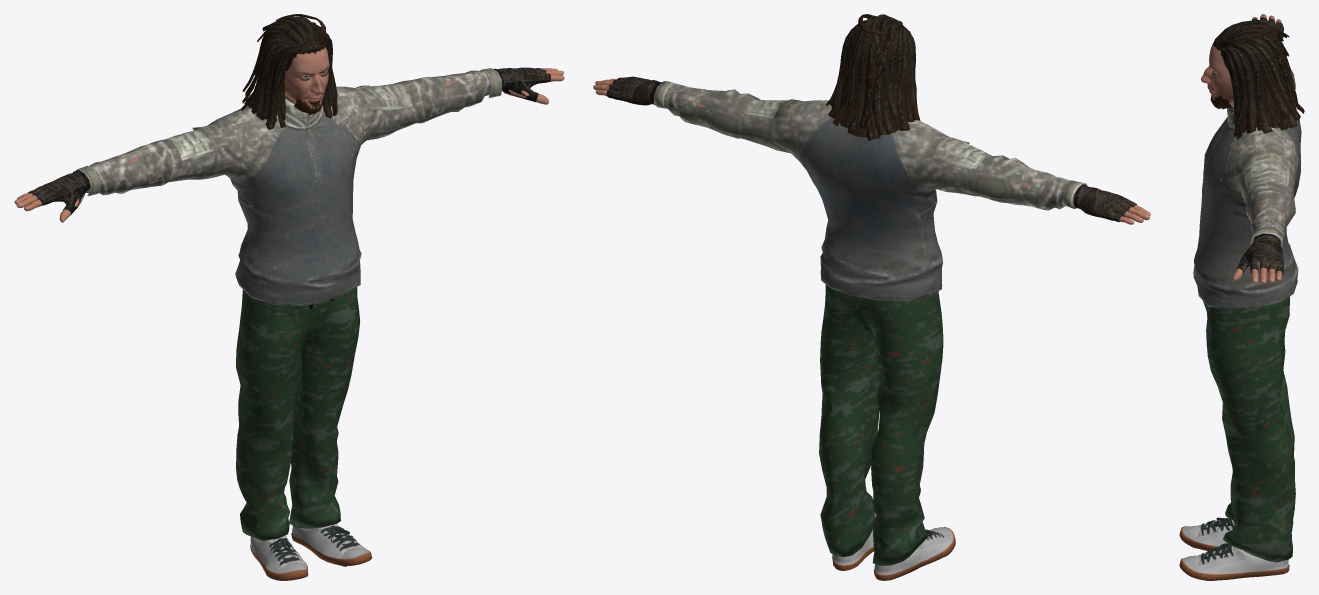
Rendered from JimModel.obj.
3 views of the same model, side by side, from view 1: azimuth 30°, elevation 25°; view 2: azimuth 150°, elevation 25°; view 3: azimuth 270°, elevation 25° (orthographic).
Parts seen in each view (by area): view 1: Tops, Bottoms, Hair, Shoes, Body, Gloves; view 2: Tops, Bottoms, Hair, Gloves, Shoes, Body; view 3: Bottoms, Tops, Hair, Shoes, Body, Gloves, Beards.
Boxes of the visible parts, left/top/right/bottom form: Tops: left=76, top=68, right=501, bottom=305; Bottoms: left=236, top=287, right=360, bottom=540; Hair: left=241, top=14, right=337, bottom=129; Shoes: left=250, top=524, right=371, bottom=580; Body: left=14, top=45, right=564, bottom=566; Gloves: left=28, top=67, right=550, bottom=215; Tops: left=653, top=81, right=1086, bottom=300; Bottoms: left=819, top=284, right=943, bottom=565; Hair: left=826, top=14, right=920, bottom=140; Gloves: left=606, top=76, right=1136, bottom=222; Shoes: left=832, top=513, right=955, bottom=580; Body: left=593, top=78, right=1150, bottom=224; Bottoms: left=1203, top=296, right=1295, bottom=562; Tops: left=1193, top=36, right=1301, bottom=308; Hair: left=1213, top=20, right=1304, bottom=139; Shoes: left=1179, top=517, right=1289, bottom=580; Body: left=1193, top=14, right=1284, bottom=552; Gloves: left=1236, top=17, right=1283, bottom=274; Beards: left=1210, top=94, right=1232, bottom=109.
Bounding box in the file's own units: 194 × 182 × 38.39.
Materials: 1 (1 with a texture image).
